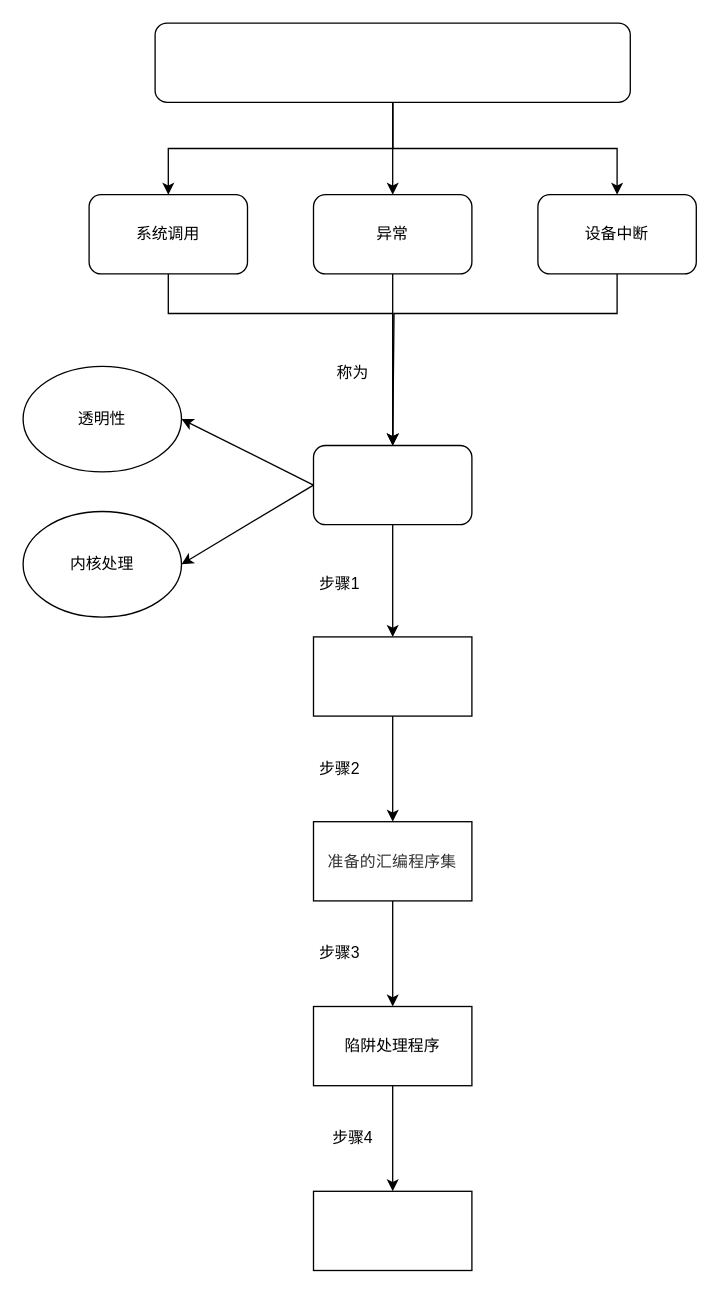
Image size: 719x1294. Some labels were removed from this diagram. Each missing label, with the centre of its shape:
"哪些事件会使得中央处理器暂停执行普通指令？" goes at [392,62].
"服务例程" goes at [392,1230].
"硬件操作" goes at [392,676].
"陷阱（trap）" goes at [392,484].
